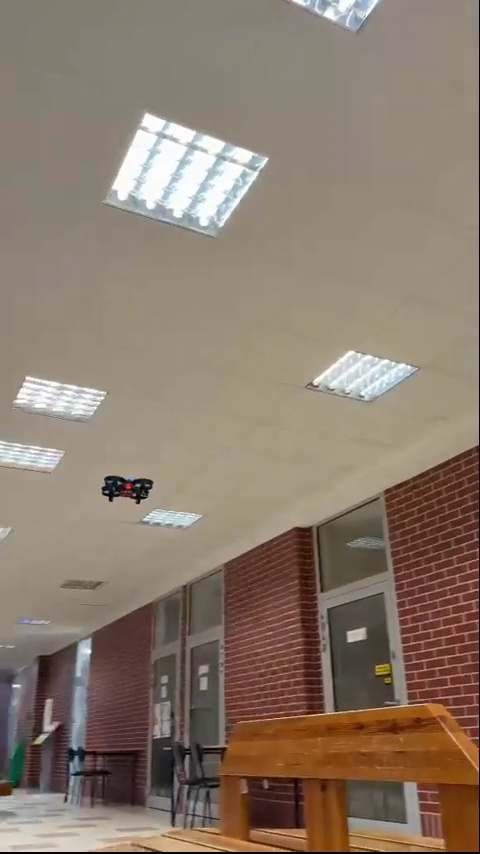drone: (99, 474, 153, 501)
